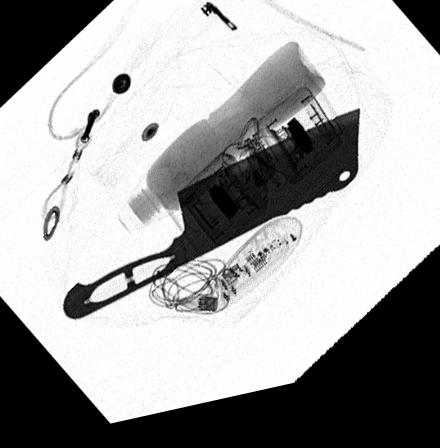Knife: (61, 122, 361, 324)
